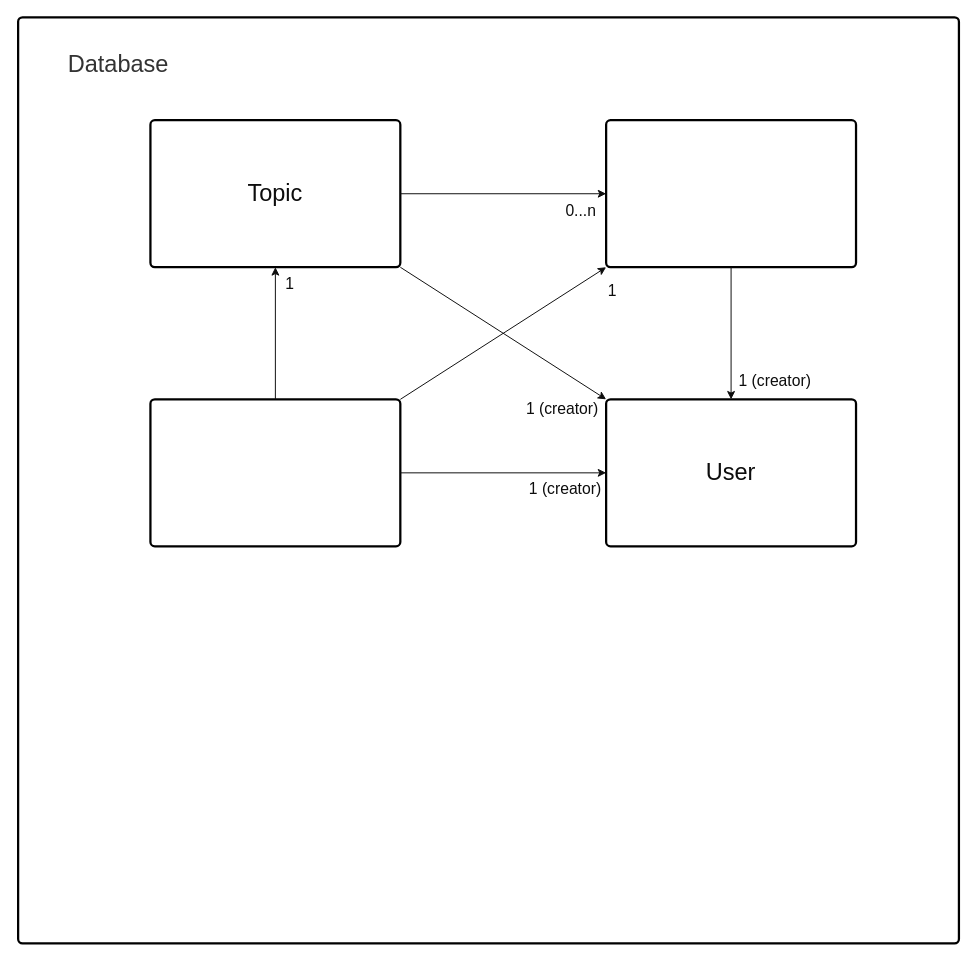
The diagram is 977 pixels wide and 962 high, and some of its shapes have lost their labels. Each missing label, with the centre of its shape:
"Rating" belongs at (x=275, y=472).
"Resource" belongs at (x=731, y=193).
